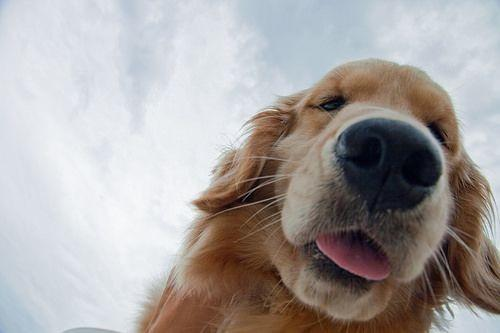adult_dog: (130, 54, 500, 333)
